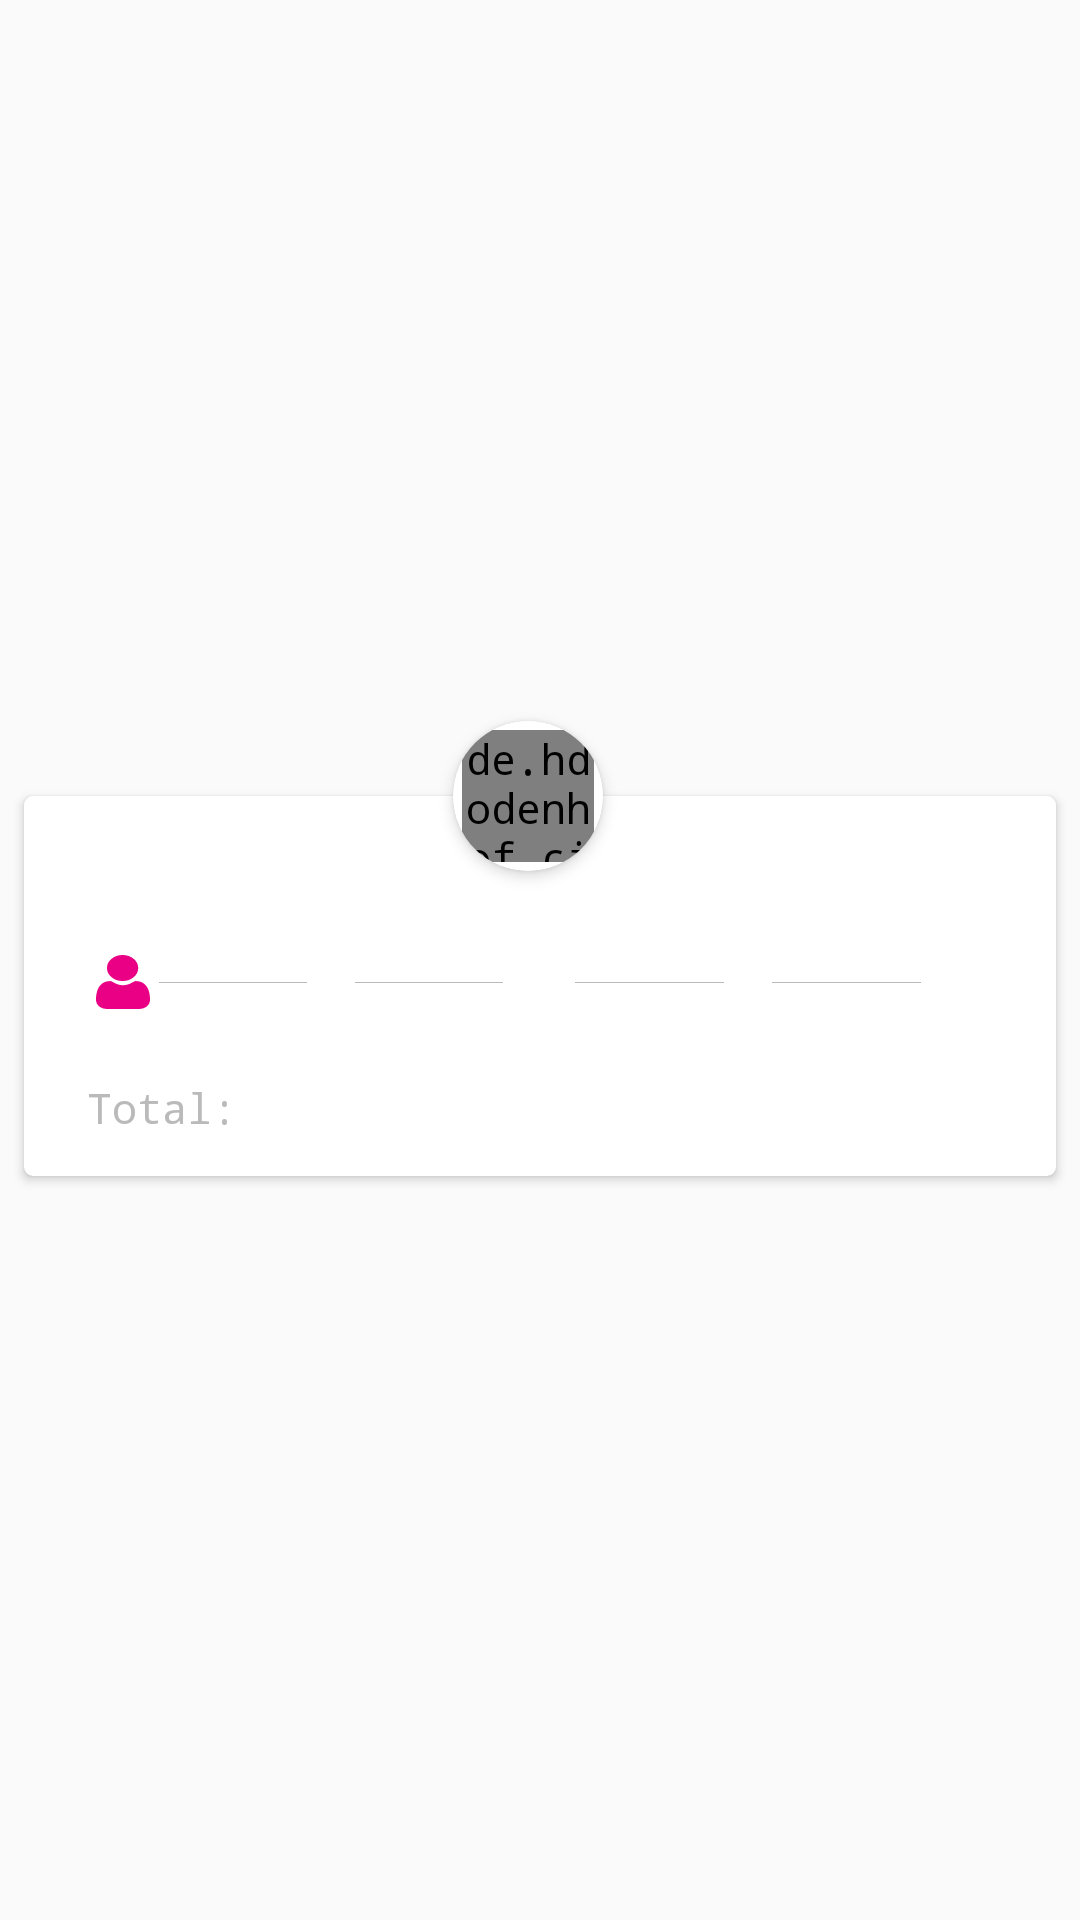

Named icons in this screenshot (1080w x 1920h) and their centers, [x,y]:
user: [123,982]
